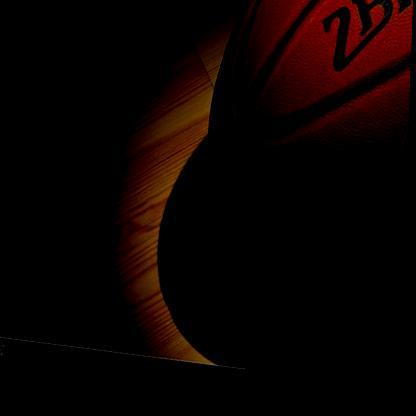basketball: (158, 0, 415, 327)
